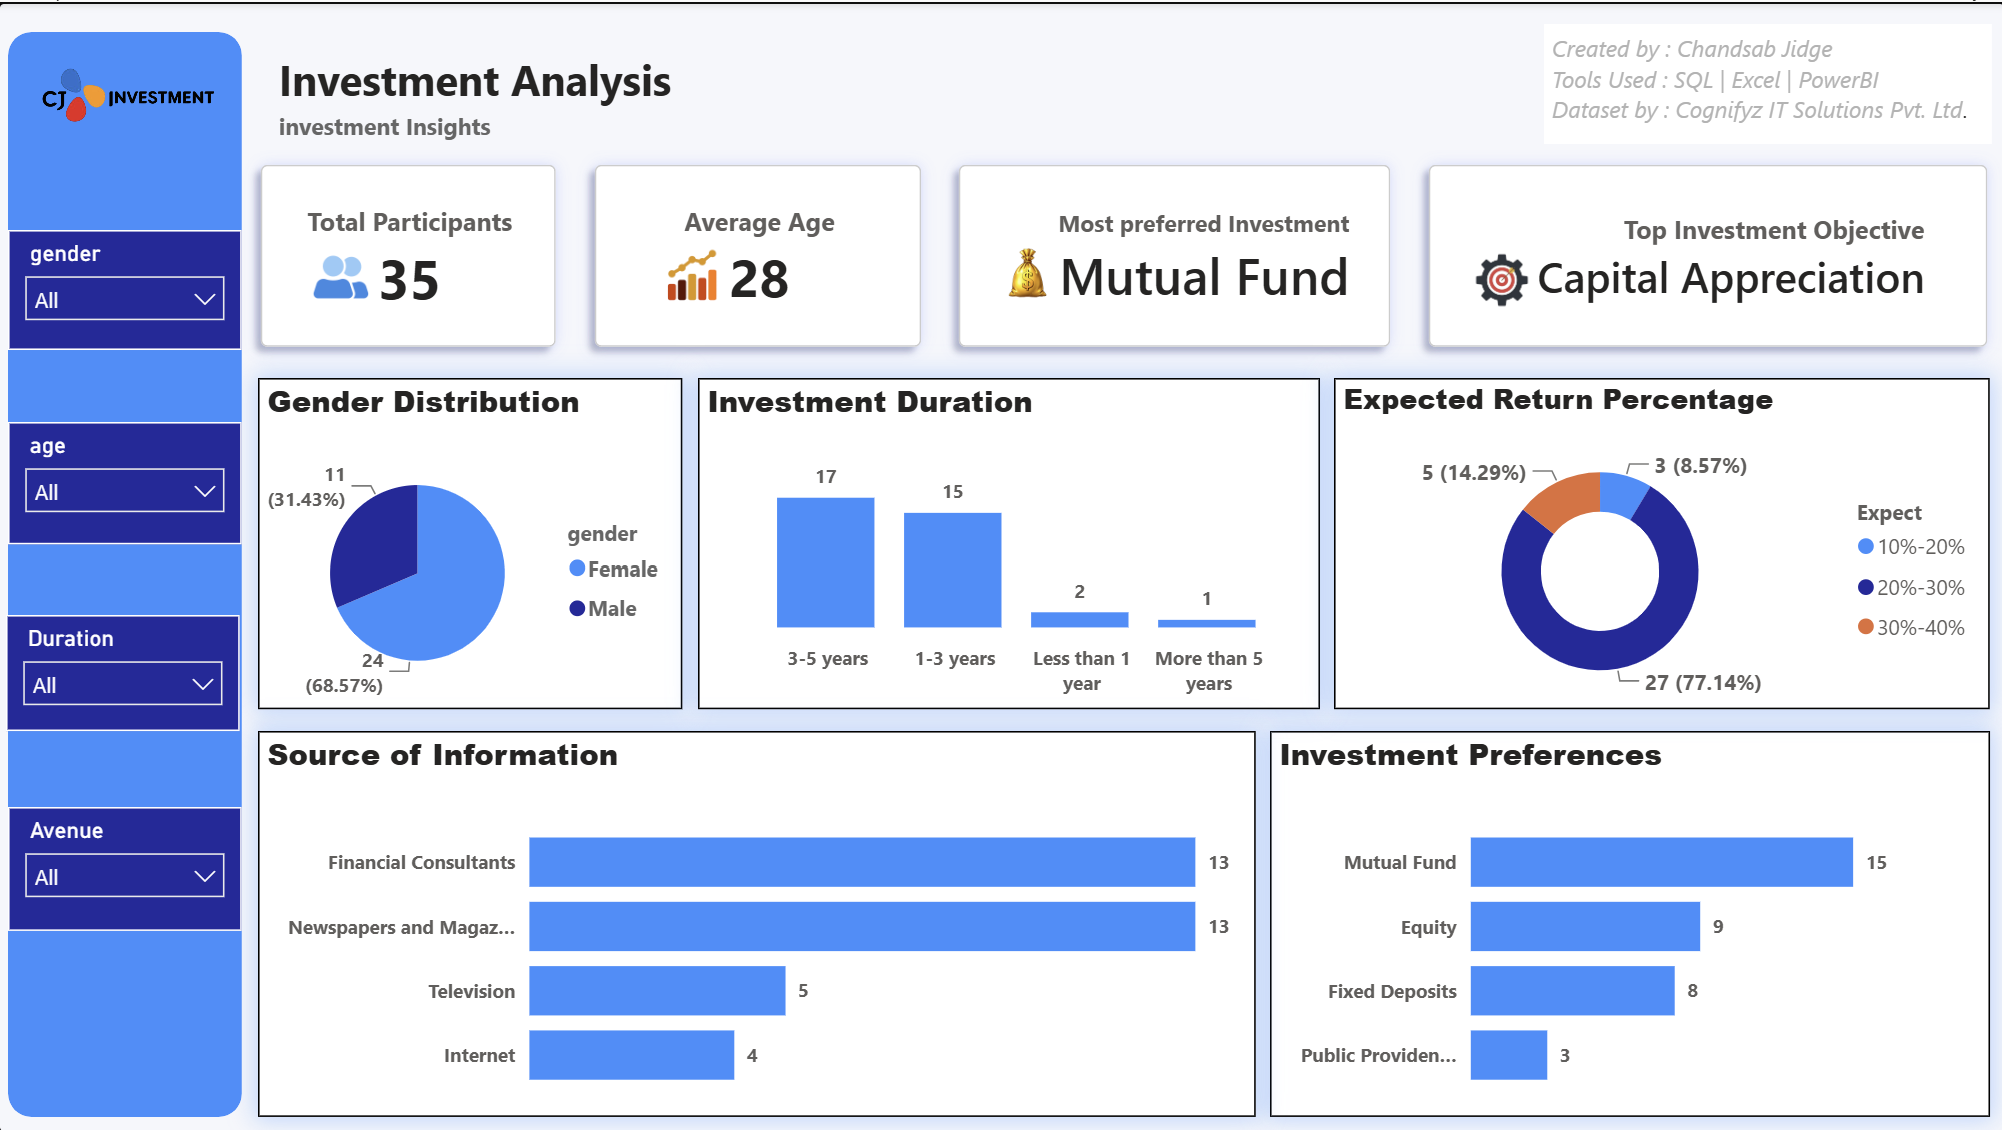

What the dashboard file says about the page in this screenshot:
{"tool":"powerbi","page":{"name":"Page 1","canvas":[1280,720],"ordinal":0},"visuals":[{"type":"cardVisual","fields":{"Data":["CountNonNull(Data_set 2 - Copy.gender)"]},"box":[155.5,91.8,212.7,140],"z":0},{"type":"cardVisual","fields":{"Data":["Avg(Data_set 2 - Copy.age)"]},"box":[368.4,91.8,232,140.2],"z":1000},{"type":"cardVisual","fields":{"Data":["Data_set 2 - Copy.Most preferred Investment Avenue"]},"box":[600.5,91.8,299.6,140.2],"z":2000},{"type":"cardVisual","fields":{"Data":["Data_set 2 - Copy.Most Common Investment Objective"]},"box":[900.1,91.8,380.4,140],"z":3000},{"type":"pieChart","title":"Gender Distribution","fields":{"Y":["CountNonNull(Data_set 2 - Copy.gender)"],"Category":["Data_set 2 - Copy.gender"]},"box":[165.7,239.7,270.3,210.4],"z":4000},{"type":"barChart","title":"Investment Preferences","fields":{"Category":["Data_set 2 - Copy.Avenue"],"Y":["CountNonNull(Data_set 2 - Copy.Avenue)"]},"box":[810.8,464.1,459,246.1],"z":5000},{"type":"clusteredColumnChart","title":"Investment Duration","fields":{"Category":["Data_set 2 - Copy.Duration"],"Y":["CountNonNull(Data_set 2 - Copy.Duration)"]},"box":[446.2,239.7,396.5,210.4],"z":6000},{"type":"donutChart","title":"Expected Return Percentage","fields":{"Category":["Data_set 2 - Copy.Expect"],"Y":["CountNonNull(Data_set 2 - Copy.Expect)"]},"box":[851.6,239.7,418.2,210.4],"z":7000},{"type":"barChart","title":"Source of Information","fields":{"Category":["Data_set 2 - Copy.Source"],"Y":["CountNonNull(Data_set 2 - Copy.Source)"]},"box":[165.7,464.1,636.2,246.1],"z":8000},{"type":"shape","box":[6.4,19.1,149.2,691],"z":9000},{"type":"image","box":[0,0,165.7,118.6],"z":10000},{"type":"cardVisual","fields":{"Data":["Data_set 2 - Copy.Dashboard tital"]},"box":[161.9,14,300.9,91.8],"z":11000},{"type":"slicer","fields":{"Values":["Data_set 2 - Copy.Avenue"]},"box":[6.4,512.5,149.2,79],"z":12000},{"type":"slicer","fields":{"Values":["Data_set 2 - Copy.age"]},"box":[6.4,267.7,149.2,77.8],"z":13000},{"type":"slicer","fields":{"Values":["Data_set 2 - Copy.gender"]},"box":[6.4,145.3,149.2,76.5],"z":14000},{"type":"slicer","fields":{"Values":["Data_set 2 - Copy.Duration"]},"box":[5.1,390.1,149.2,73.9],"z":15000},{"type":"image","box":[422,154.3,40.8,38.2],"z":16000},{"type":"image","box":[197.6,156.8,42.1,37],"z":17000},{"type":"image","box":[634.9,154.3,42.1,37],"z":18000},{"type":"image","box":[932,155.5,53.5,43.3],"z":19000},{"type":"textbox","box":[985.5,14,285.6,76.5],"z":19001}]}

Visuals, with their boxes in screenshot pixels (x1, y1, x2, y2), scaled from the page's 1280x720 canvas onto the 2002x1130 screenshot:
cardVisual - CountNonNull(Data_set 2 - Copy.gender): Rect(243, 144, 576, 364)
cardVisual - Avg(Data_set 2 - Copy.age): Rect(576, 144, 939, 364)
cardVisual - Data_set 2 - Copy.Most preferred Investment Avenue: Rect(939, 144, 1408, 364)
cardVisual - Data_set 2 - Copy.Most Common Investment Objective: Rect(1408, 144, 2001, 364)
"Gender Distribution" pieChart: Rect(259, 376, 682, 706)
"Investment Preferences" barChart: Rect(1268, 728, 1986, 1115)
"Investment Duration" clusteredColumnChart: Rect(698, 376, 1318, 706)
"Expected Return Percentage" donutChart: Rect(1332, 376, 1986, 706)
"Source of Information" barChart: Rect(259, 728, 1254, 1115)
shape: Rect(10, 30, 243, 1114)
image: Rect(0, 0, 259, 186)
cardVisual - Data_set 2 - Copy.Dashboard tital: Rect(253, 22, 724, 166)
slicer - Data_set 2 - Copy.Avenue: Rect(10, 804, 243, 928)
slicer - Data_set 2 - Copy.age: Rect(10, 420, 243, 542)
slicer - Data_set 2 - Copy.gender: Rect(10, 228, 243, 348)
slicer - Data_set 2 - Copy.Duration: Rect(8, 612, 241, 728)
image: Rect(660, 242, 724, 302)
image: Rect(309, 246, 375, 304)
image: Rect(993, 242, 1059, 300)
image: Rect(1458, 244, 1541, 312)
textbox: Rect(1541, 22, 1988, 142)
